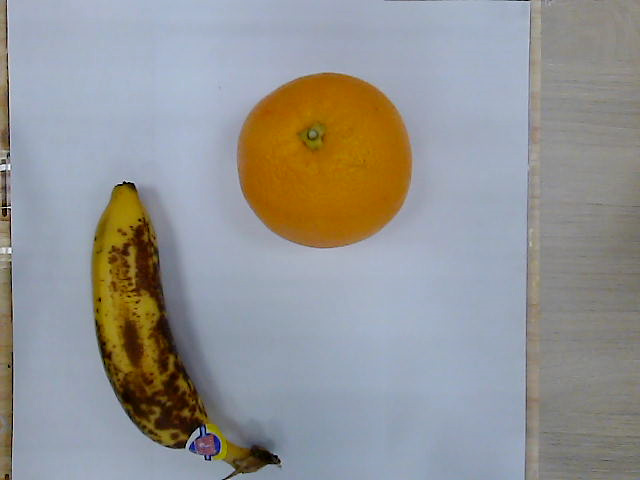fresh_orange: (238, 73, 411, 249)
rotten_banana: (92, 184, 287, 475)
